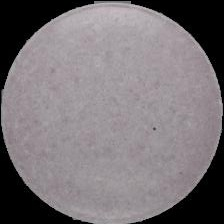67544-401: (0, 0, 224, 224)
